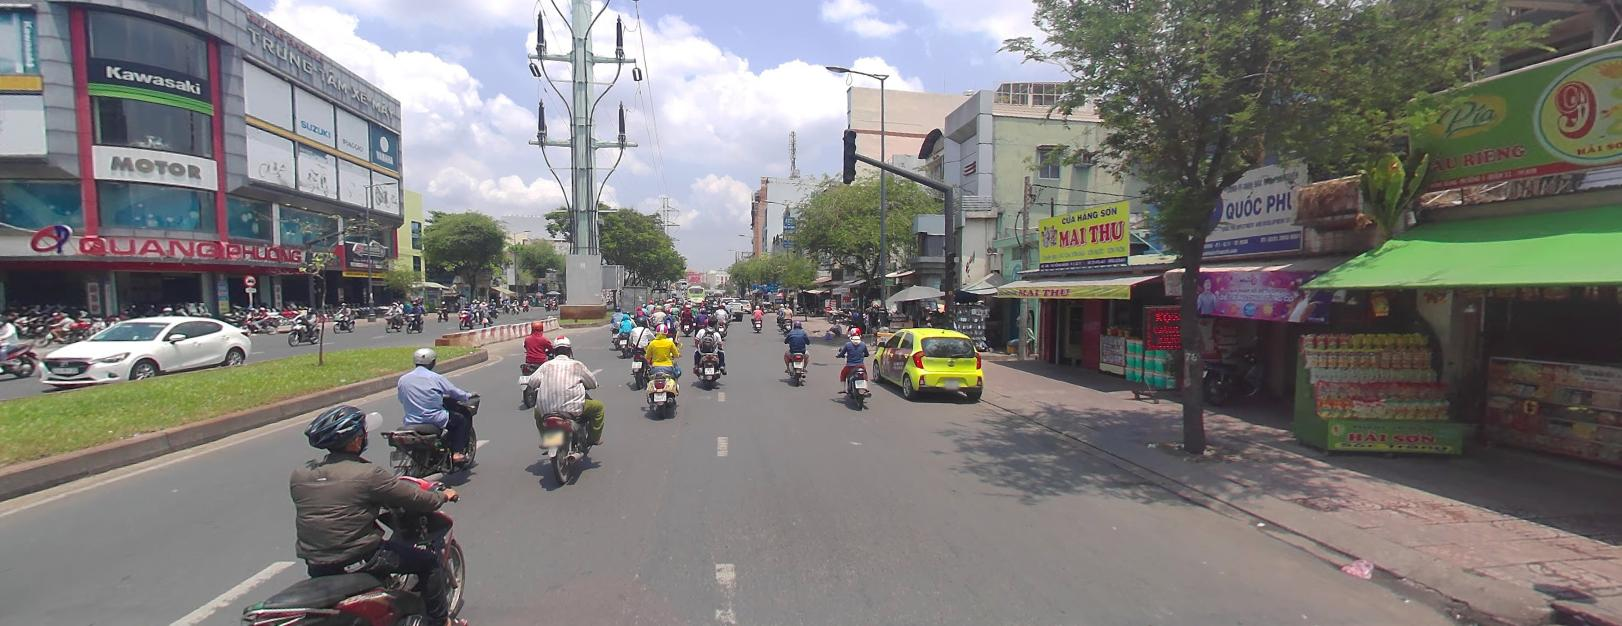Cam con lai: (242, 273, 257, 285)
